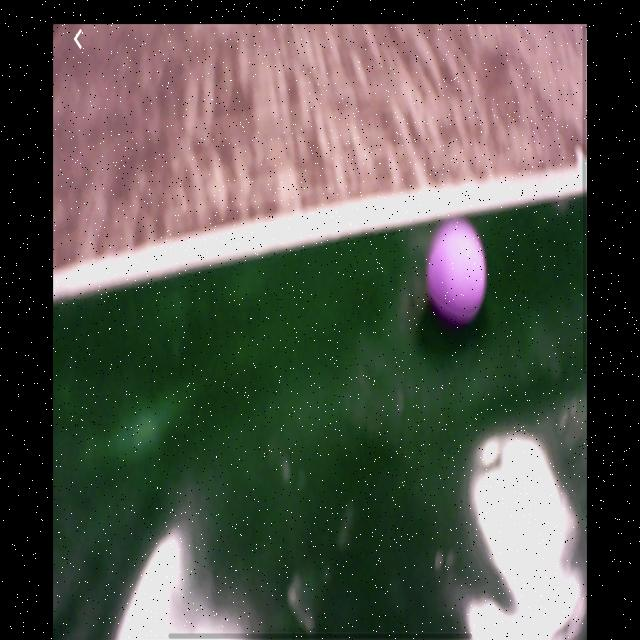ball: (426, 217, 489, 327)
